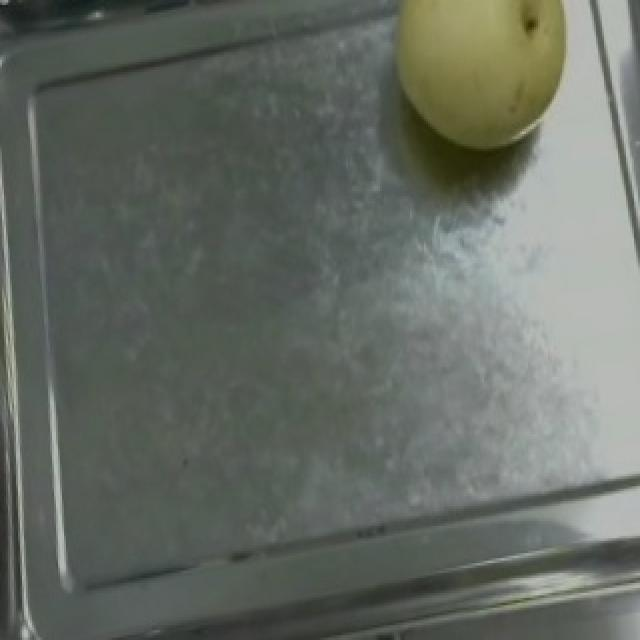Fruit: (362, 0, 594, 174)
